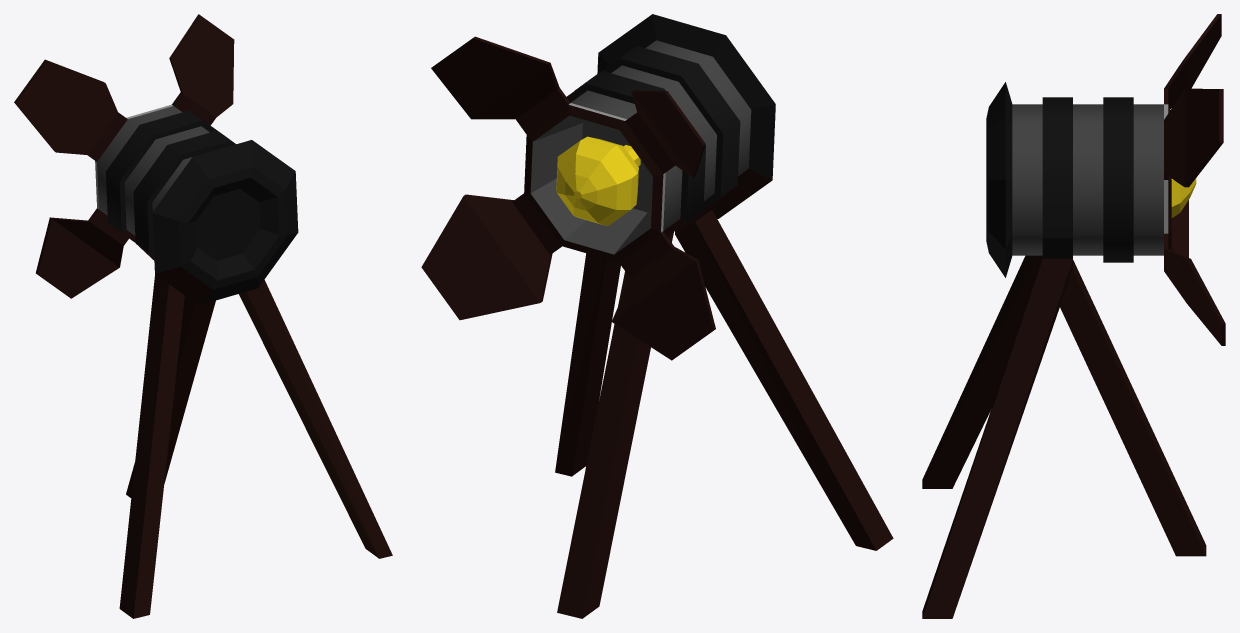
Rendered from Spotlight.FBX.
3 renders of one model, left to right at view 1: azimuth 30°, elevation 25°; view 2: azimuth 150°, elevation 25°; view 3: azimuth 270°, elevation 25°, orthographic. The views are drawn at different scales.
Visible parts, largest first — view 1: Spotlight; view 2: Spotlight; view 3: Spotlight.
Part boxes in pixels (x1,y1,x2,y2): Spotlight: (14, 14, 392, 618); Spotlight: (421, 14, 893, 618); Spotlight: (922, 14, 1225, 618).
Size of the model in its own units: 22.88 by 38.33 by 21.12.
